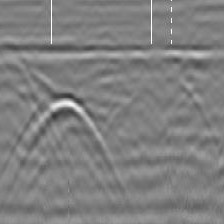Utility: (0, 91, 127, 204)
